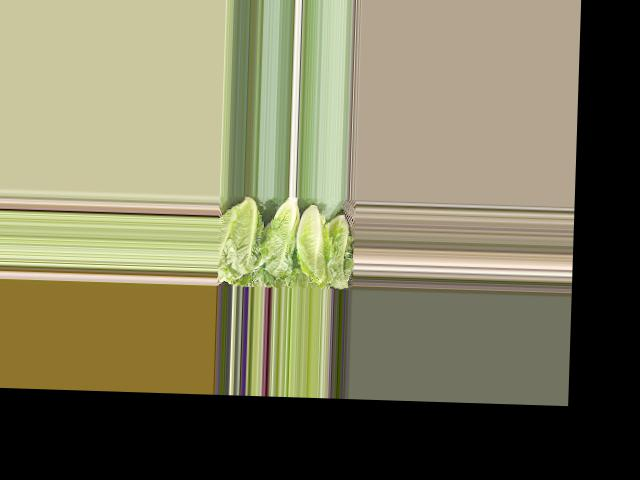lettuce: (325, 216, 349, 289)
